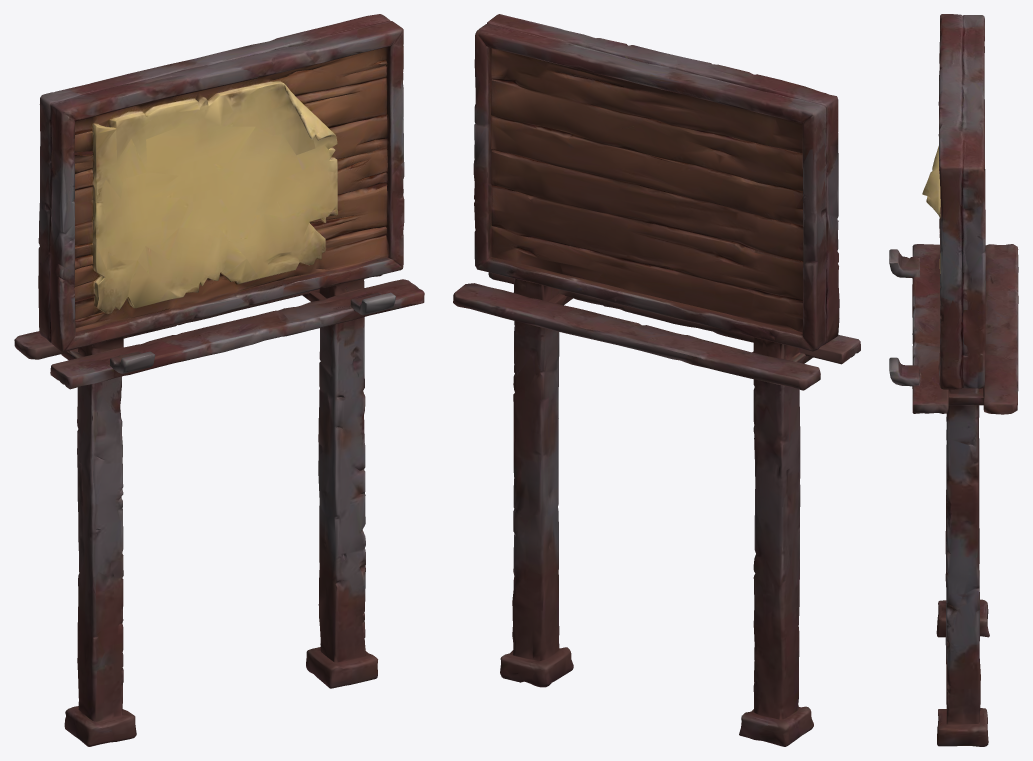
File: billboard_road_tselyy_idle.glb
3 renders of one model, left to right at view 1: azimuth 30°, elevation 25°; view 2: azimuth 150°, elevation 25°; view 3: azimuth 270°, elevation 25°, orthographic. The views are drawn at different scales.
Parts seen in each view (by area): view 1: tripo_node_3f0622d5-c850-485f-94f8-81b5786df40d; view 2: tripo_node_3f0622d5-c850-485f-94f8-81b5786df40d; view 3: tripo_node_3f0622d5-c850-485f-94f8-81b5786df40d.
Boxes of the visible parts, box(x1,y1,x2,y2) form: tripo_node_3f0622d5-c850-485f-94f8-81b5786df40d: box(14, 14, 424, 746); tripo_node_3f0622d5-c850-485f-94f8-81b5786df40d: box(453, 14, 860, 746); tripo_node_3f0622d5-c850-485f-94f8-81b5786df40d: box(889, 14, 1018, 746).
Bounding box in the file's own units: 2.31 × 4 × 0.7866.
1 material, 1 textured.
